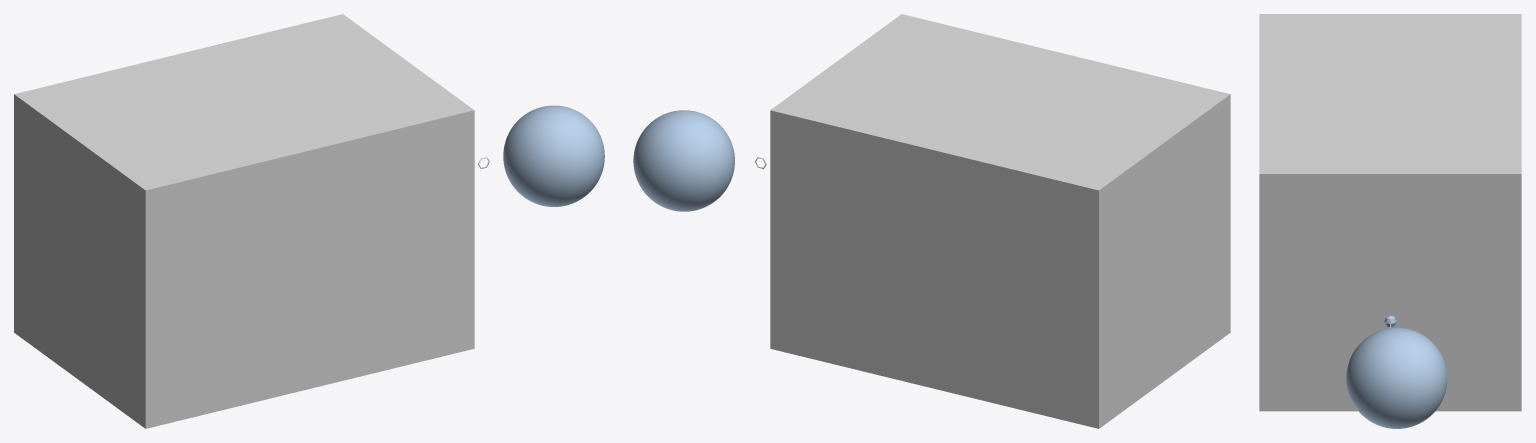
The model's file is 3d for XR 1118.fbx.
3 views of the same model, side by side, from view 1: azimuth 30°, elevation 25°; view 2: azimuth 150°, elevation 25°; view 3: azimuth 270°, elevation 25° (orthographic).
Visible parts, largest first — view 1: Cube.FOG, Mball.INSTANCE; view 2: Cube.FOG, Mball.INSTANCE; view 3: Cube.FOG, Mball.INSTANCE.
Boxes of the visible parts, box(x1,y1,x2,y2) form: Cube.FOG: box(14, 14, 474, 428); Mball.INSTANCE: box(503, 105, 604, 206); Cube.FOG: box(770, 14, 1230, 428); Mball.INSTANCE: box(633, 110, 734, 211); Cube.FOG: box(1259, 14, 1521, 411); Mball.INSTANCE: box(1346, 327, 1447, 428).
Size of what is drawn, in the model's own units: 9658 by 4221 by 4221.
